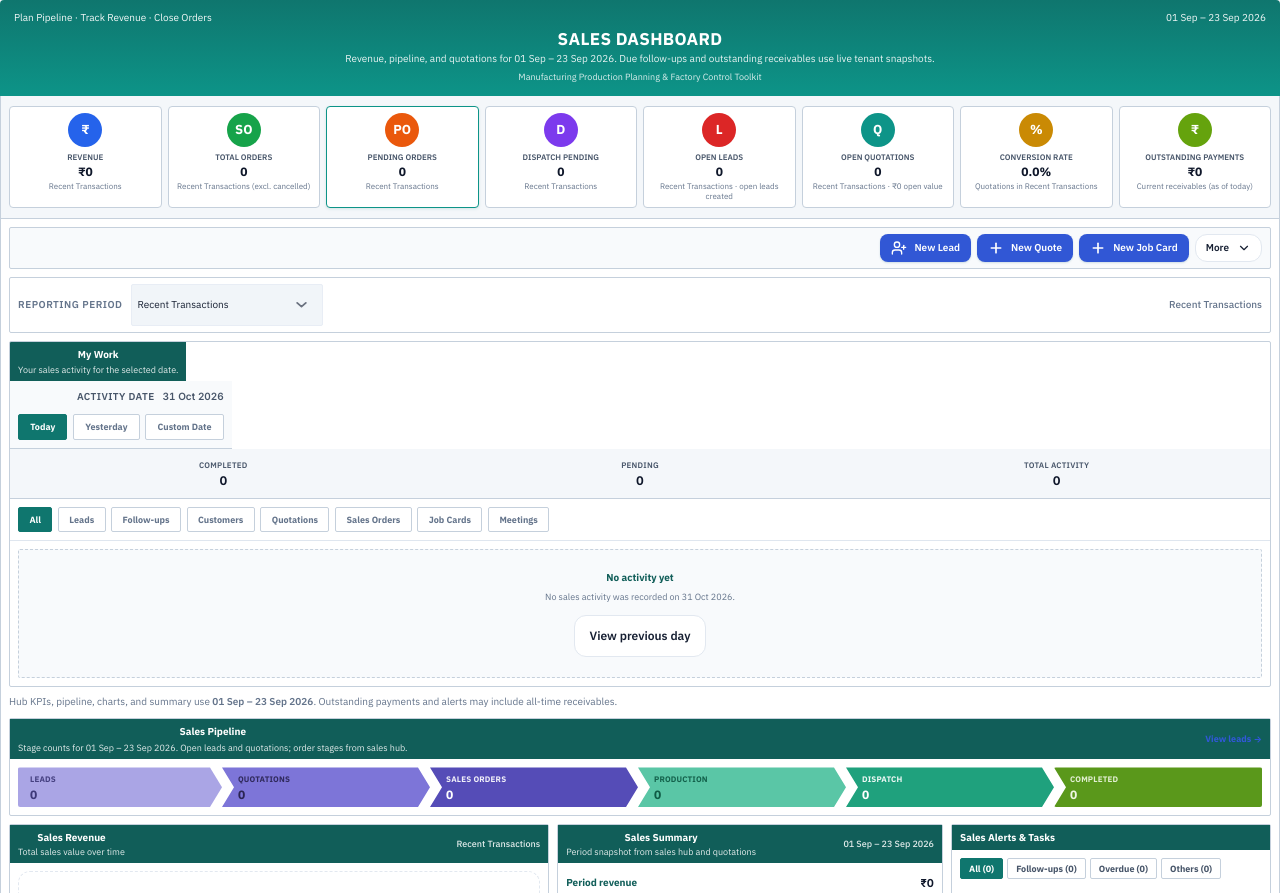
Test case: SalesDashboard smoke › opens My Work activity date calendar modal from Custom Date
Expected: the text "Activity Date" is shown, [77,389,154,404]
Click the button "Custom Date": (184, 427) [145,414,224,440]
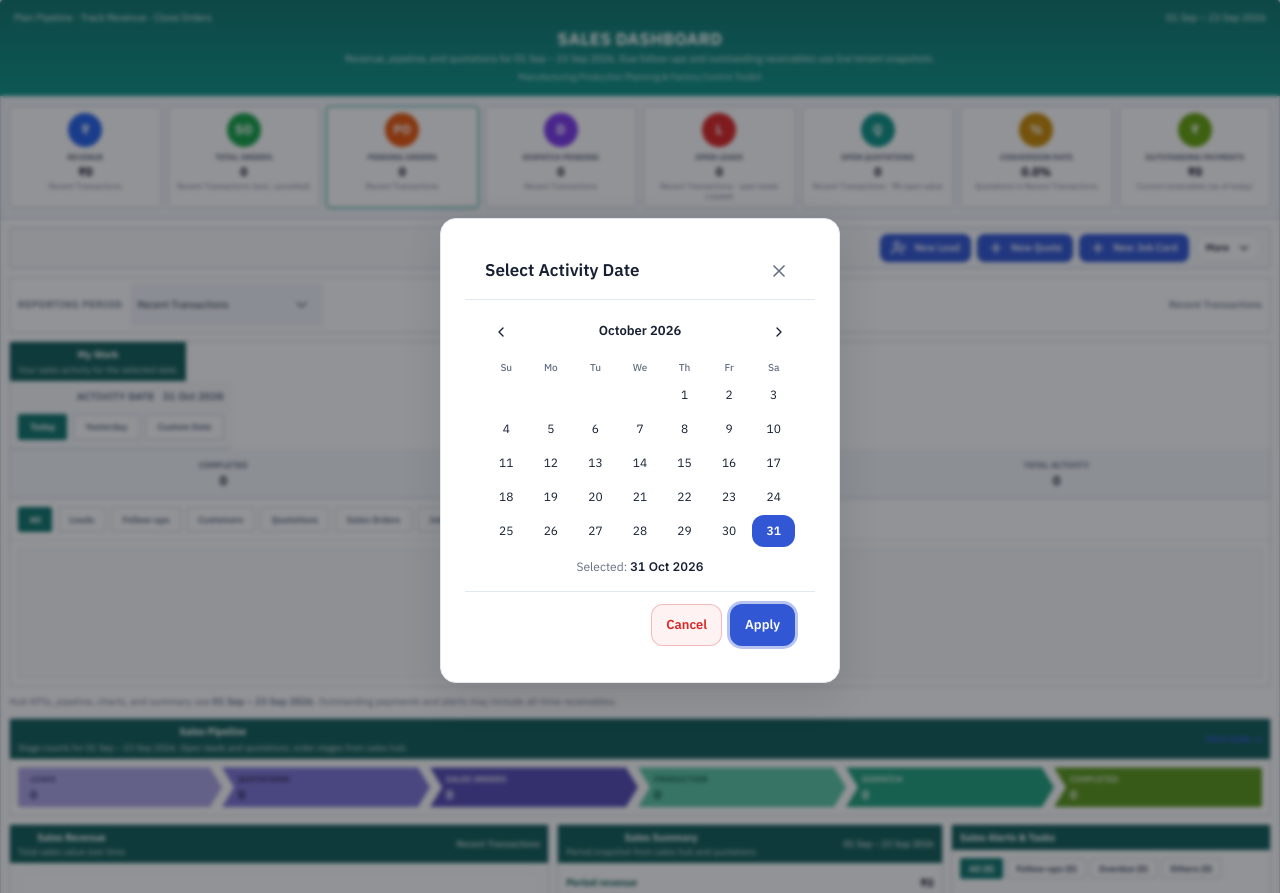
Expected: the dialog with test id "my-work-activity-date-modal" is shown, [440,218,840,682]
